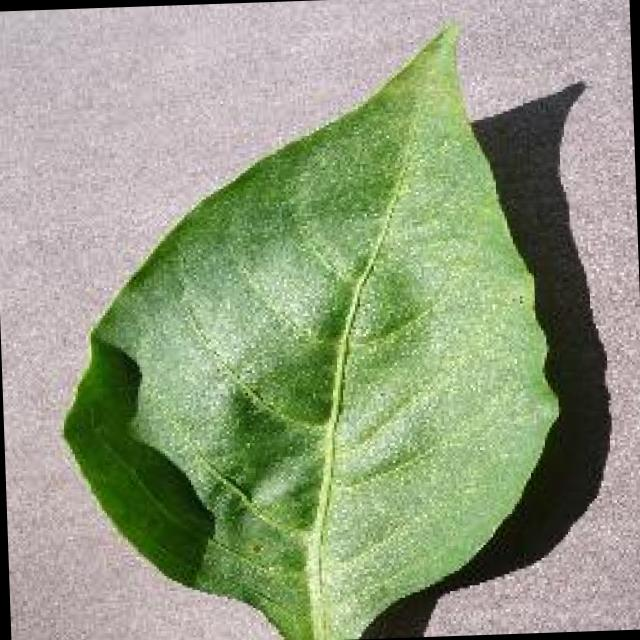Chilli_Healthy: (45, 14, 571, 640)
